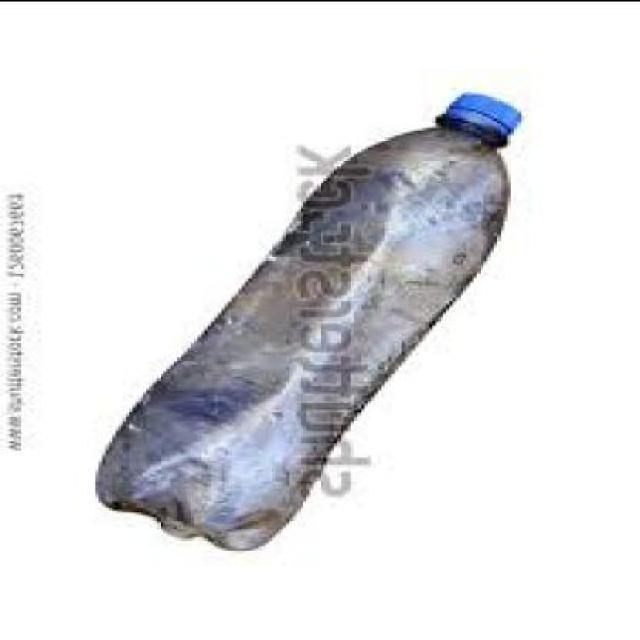PLASTIC: (105, 96, 524, 552), (442, 98, 524, 145)
